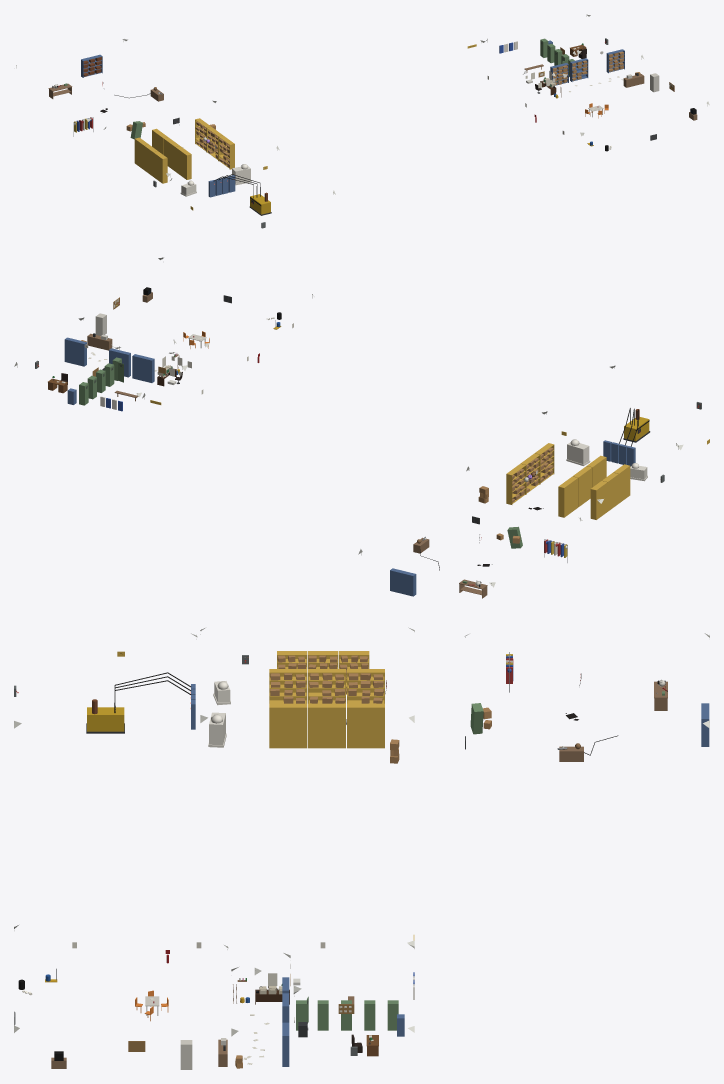
Rendered from v2_servico.glb.
3 renders of one model, top to bottom at view 1: azimuth 30°, elevation 25°; view 2: azimuth 150°, elevation 25°; view 3: azimuth 270°, elevation 25°, orthographic. The views are drawn at different scales.
Parts seen in each view (by area): view 1: Prateleira_Alta_2_3, Paineis_Eletricos, Prateleira_Alta_1_3, Gerador_Principal, Prateleira_Alta_2_2, Prateleira_Alta_3_3; view 2: Prateleira_Alta_2_1, Paineis_Eletricos, Estante_Pecas_Oficina, Prateleira_Alta_1_1, Estante_Arquivo_1, Estante_Arquivo_3, Gerador_Principal; view 3: Prateleira_Alta_3_3, Prateleira_Alta_3_1, Prateleira_Alta_3_2, Gerador_Principal, Prateleira_Alta_2_3, Prateleira_Alta_2_1, Prateleira_Alta_2_2, Prateleira_Alta_2_1_Itens, Prateleira_Alta_2_2_Itens, Prateleira_Alta_2_3_Itens.
Boxes of the visible parts, x1,y1,x2,y2 form: Prateleira_Alta_2_3: (175,146,191,179); Paineis_Eletricos: (208,175,235,197); Prateleira_Alta_1_3: (153,151,167,183); Gerador_Principal: (249,192,271,215); Prateleira_Alta_2_2: (163,137,179,171); Prateleira_Alta_3_3: (218,135,234,169); Prateleira_Alta_2_1: (558,476,577,517); Paineis_Eletricos: (603,440,635,466); Estante_Pecas_Oficina: (390,568,416,596); Prateleira_Alta_1_1: (590,481,607,519); Estante_Arquivo_1: (132,354,154,382); Estante_Arquivo_3: (64,337,86,366); Gerador_Principal: (623,409,650,442); Prateleira_Alta_3_3: (269,703,307,748); Prateleira_Alta_3_1: (347,703,384,748); Prateleira_Alta_3_2: (308,703,345,748); Gerador_Principal: (86,699,124,733); Prateleira_Alta_2_3: (269,669,307,703); Prateleira_Alta_2_1: (347,669,384,703); Prateleira_Alta_2_2: (308,669,345,703); Prateleira_Alta_2_1_Itens: (348,673,383,703); Prateleira_Alta_2_2_Itens: (309,673,345,703); Prateleira_Alta_2_3_Itens: (270,673,305,703).
Size of what is drawn, in the model's own units: 59.92 by 4.48 by 44.8.
